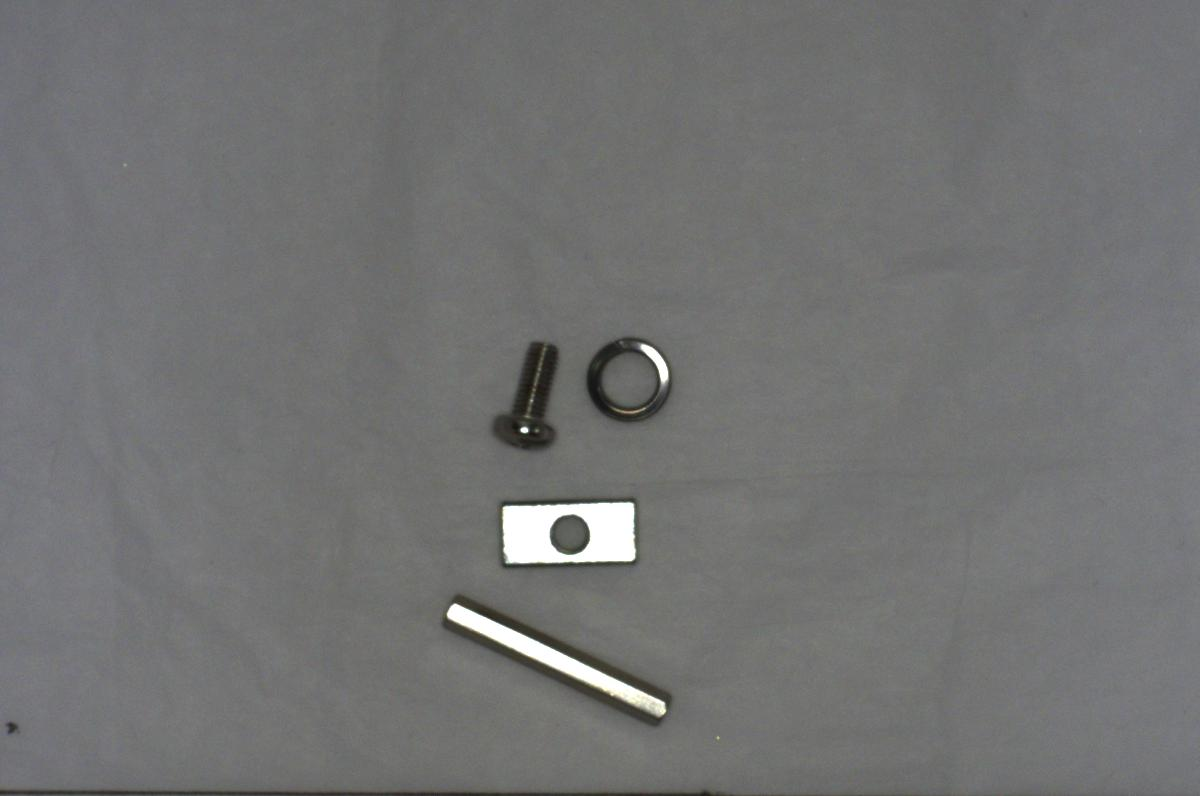Double hexagonal column: (431, 588, 680, 733)
Rectangular nut: (492, 494, 637, 579)
Round head screw: (486, 330, 564, 458)
Spring washer: (580, 327, 679, 428)
